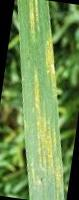Wheat: (30, 62, 60, 171)
